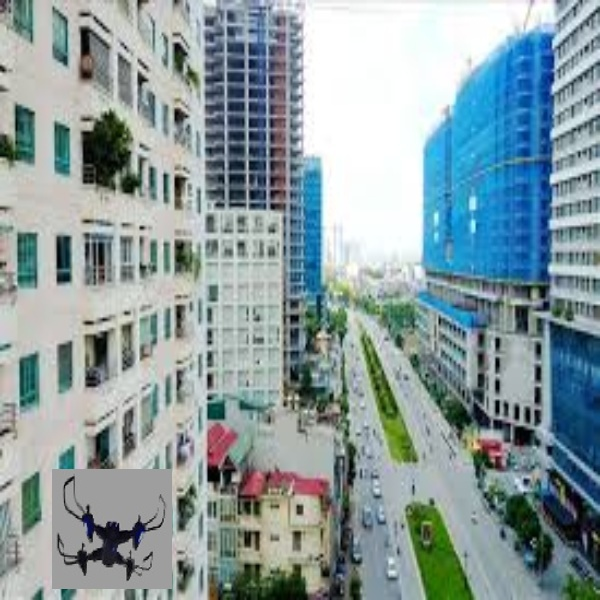drone: (55, 474, 169, 586)
